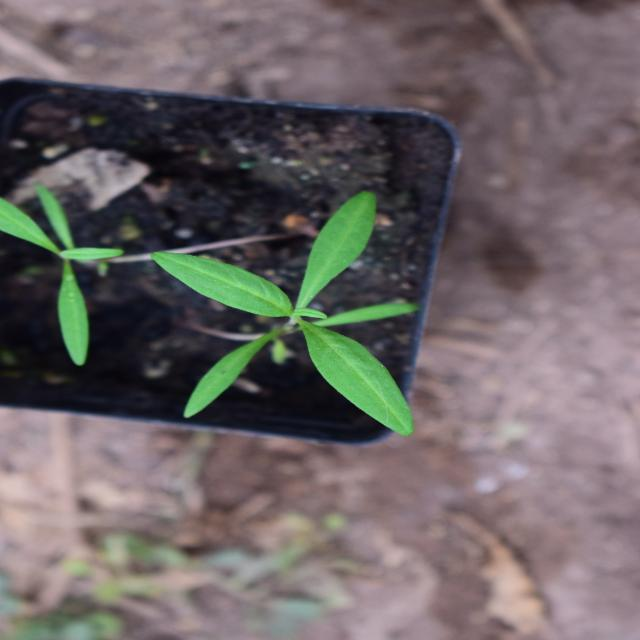white_smart_weed: (189, 149, 460, 427), (284, 0, 462, 148)
